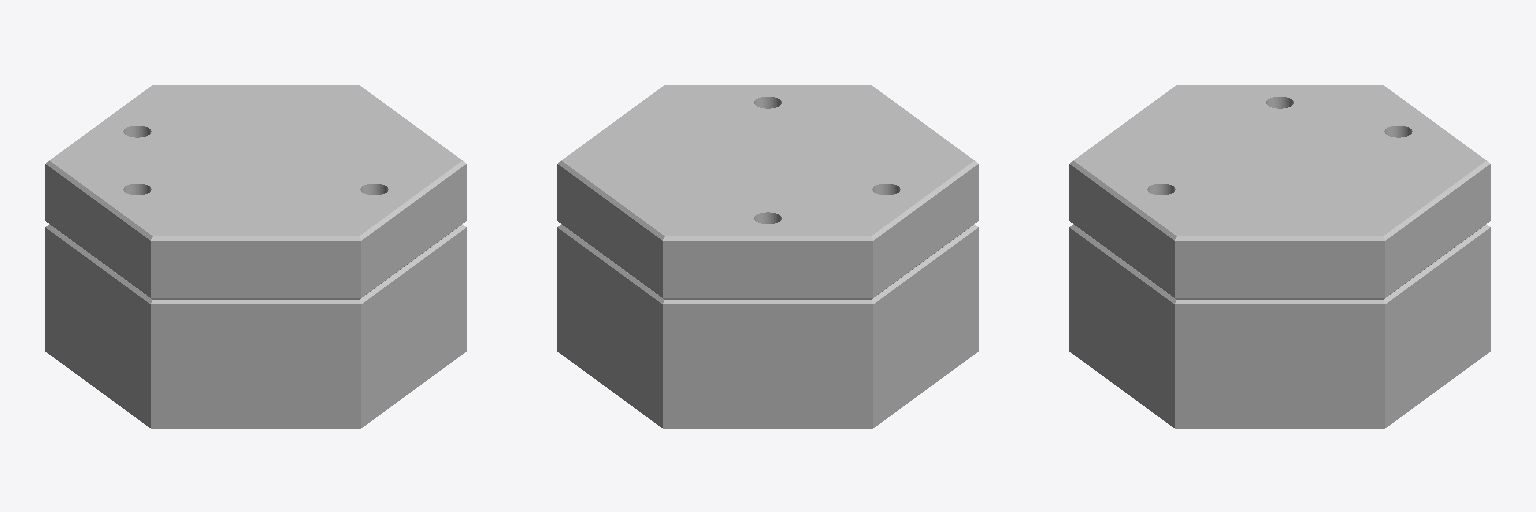
File: lvl2C.obj
The picture shows the model from 3 angles: view 1: azimuth 30°, elevation 25°; view 2: azimuth 150°, elevation 25°; view 3: azimuth 270°, elevation 25°; orthographic projection.
Parts seen in each view (by area): view 1: Lvl2C-3_(Mono-NoMags); view 2: Lvl2C-3_(Mono-NoMags); view 3: Lvl2C-3_(Mono-NoMags).
Boxes of the visible parts, x1=… form: Lvl2C-3_(Mono-NoMags): x1=45, y1=85, x2=466, y2=428; Lvl2C-3_(Mono-NoMags): x1=557, y1=85, x2=978, y2=428; Lvl2C-3_(Mono-NoMags): x1=1069, y1=85, x2=1490, y2=428.
Bounding box in the file's own units: 3.13 × 1.81 × 3.62.